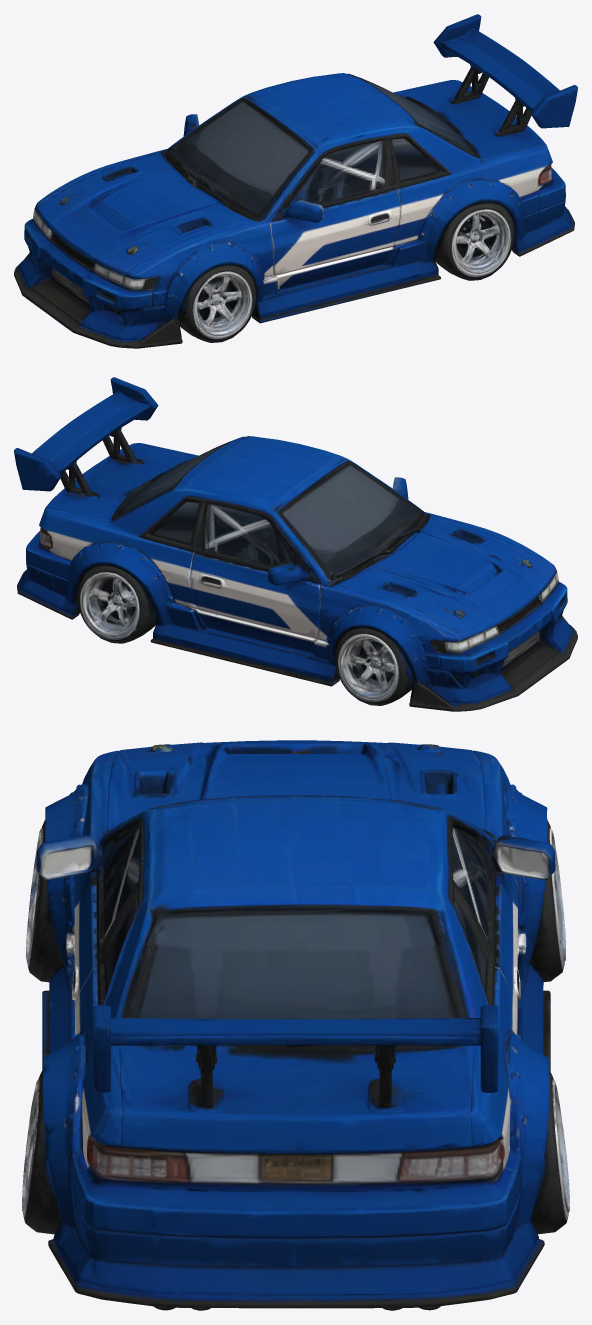
The model's file is drift-coupe.glb.
The picture shows the model from 3 angles, top to bottom: view 1: azimuth 30°, elevation 25°; view 2: azimuth 150°, elevation 25°; view 3: azimuth 270°, elevation 25°; orthographic projection. The views are drawn at different scales.
Visible parts, largest first — view 1: module_fit; view 2: module_fit; view 3: module_fit.
Part boxes in pixels (bbox=[...]): module_fit: bbox=[14, 14, 577, 348]; module_fit: bbox=[14, 377, 577, 711]; module_fit: bbox=[22, 740, 569, 1310].
Size of the model in its own units: 1.12 by 0.3422 by 0.5431.
1 material, 1 textured.
